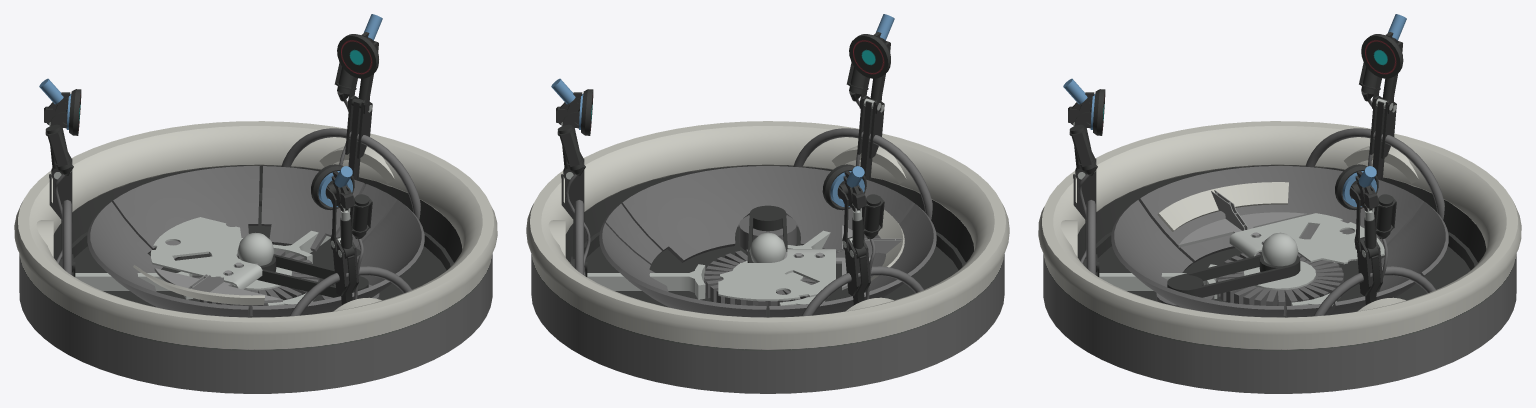
Rendered from EDITOR_tbeam.obj.
3 renders of one model, left to right at view 1: azimuth 30°, elevation 25°; view 2: azimuth 150°, elevation 25°; view 3: azimuth 270°, elevation 25°, orthographic.
Visible parts, largest first — view 1: Body.dmx/tbeam_model.dmx.mesh_0; view 2: Body.dmx/tbeam_model.dmx.mesh_0; view 3: Body.dmx/tbeam_model.dmx.mesh_0.
Part boxes in pixels (x1,y1,x2,y2): Body.dmx/tbeam_model.dmx.mesh_0: [14, 14, 497, 393]; Body.dmx/tbeam_model.dmx.mesh_0: [526, 14, 1009, 393]; Body.dmx/tbeam_model.dmx.mesh_0: [1038, 14, 1521, 393].
Bounding box in the file's own units: 125 × 59.25 × 125.
